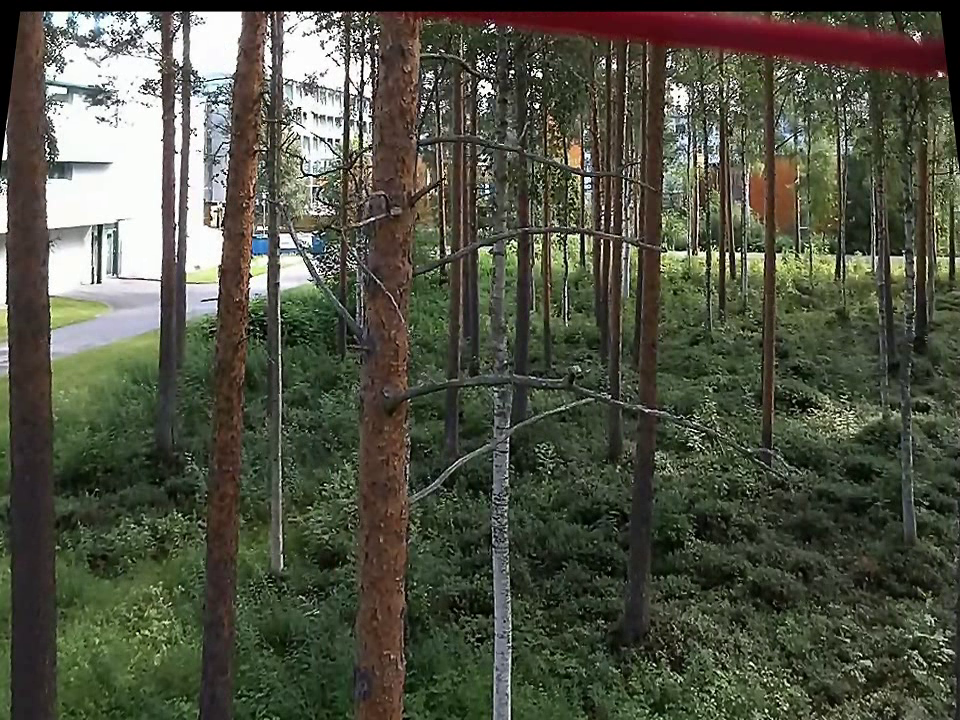branch: (410, 359, 796, 486), (420, 118, 659, 198), (418, 216, 665, 283), (421, 37, 508, 95)
trunk: (346, 25, 410, 706), (7, 14, 60, 717), (614, 44, 665, 647), (199, 19, 242, 717), (480, 56, 522, 715), (145, 18, 191, 458), (889, 129, 932, 538), (261, 25, 291, 588), (752, 54, 786, 482)
